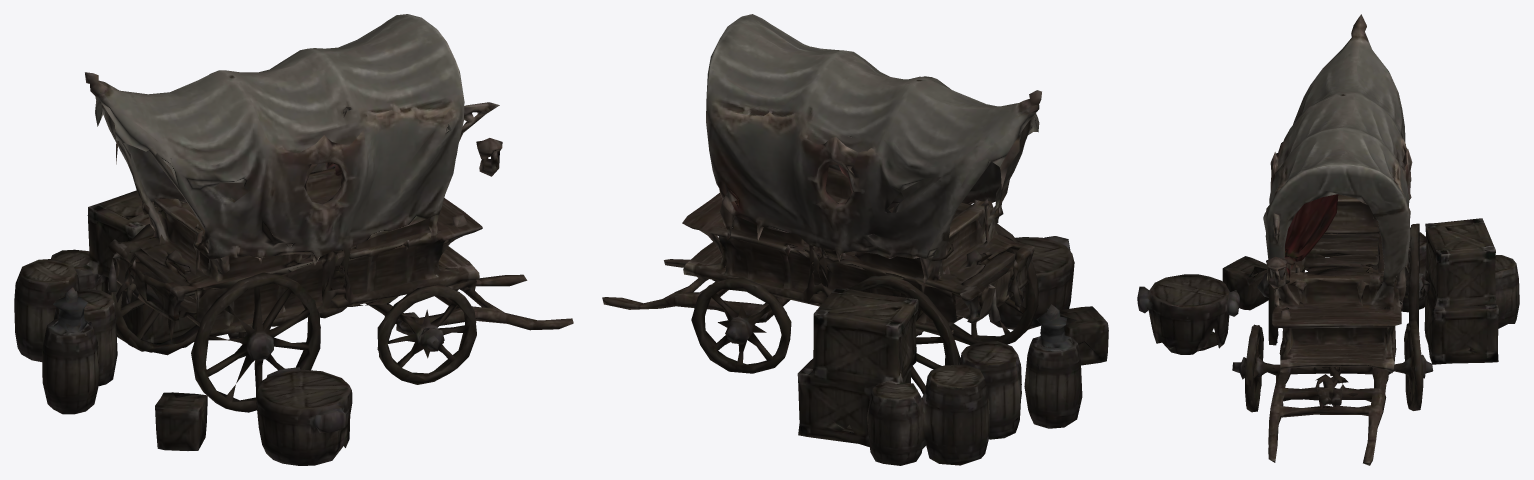
Rendered from merchant.glb.
3 views of the same model, side by side, from view 1: azimuth 30°, elevation 25°; view 2: azimuth 150°, elevation 25°; view 3: azimuth 270°, elevation 25° (orthographic). The views are drawn at different scales.
Visible parts, largest first — view 1: geometry_0; view 2: geometry_0; view 3: geometry_0.
Part boxes in pixels (box(x1,y1,x2,y2)): geometry_0: box(14, 14, 573, 465); geometry_0: box(602, 14, 1108, 465); geometry_0: box(1137, 14, 1519, 465).
Bounding box in the file's own units: 0.9916 × 0.6533 × 0.8076.
1 material, 1 textured.
